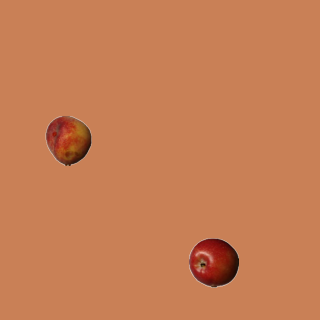Apple Braeburn: (188, 237, 238, 287)
Peach: (43, 115, 93, 165)
